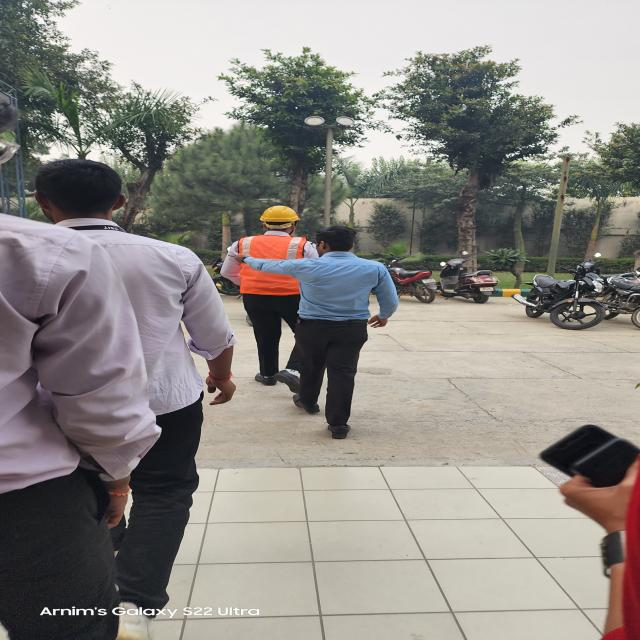safe: (224, 203, 321, 390)
unsafe: (21, 157, 236, 622), (260, 224, 398, 435)
